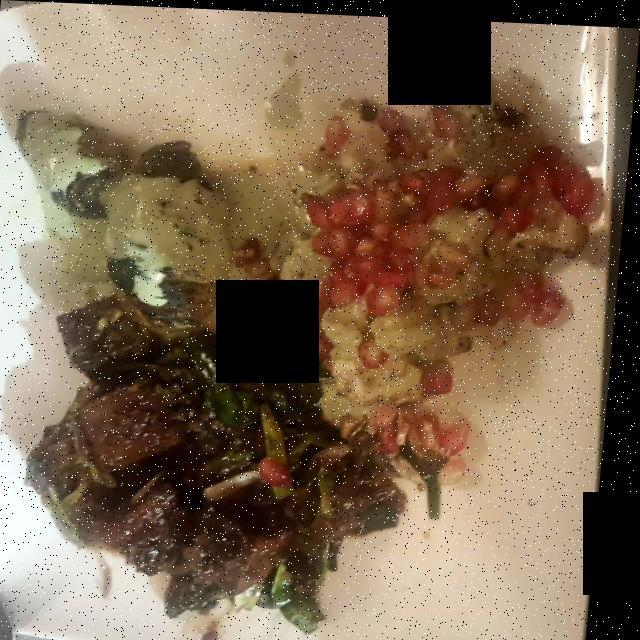baked-potato: (30, 103, 228, 369)
falafel-balls: (275, 86, 575, 410)
pomegranate: (301, 149, 591, 370)
sauce: (77, 360, 384, 608)
tofu: (40, 282, 436, 640)
